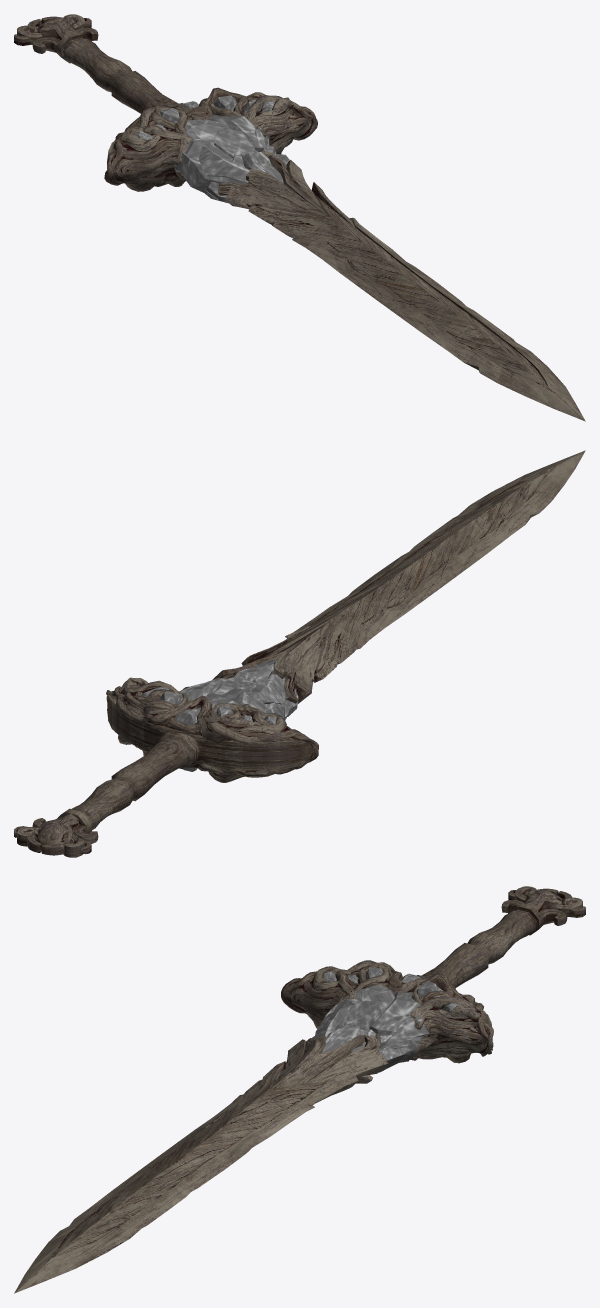
3 renders of one model, top to bottom at view 1: azimuth 30°, elevation 25°; view 2: azimuth 150°, elevation 25°; view 3: azimuth 330°, elevation 25°, orthographic.
Visible parts, largest first — view 1: WP_A_0232, WP_A_0232.001; view 2: WP_A_0232, WP_A_0232.001; view 3: WP_A_0232, WP_A_0232.001.
Part boxes in pixels (left/top/right/bottom): WP_A_0232: left=14, top=14, right=585, bottom=421; WP_A_0232.001: left=134, top=95, right=289, bottom=203; WP_A_0232: left=14, top=450, right=585, bottom=857; WP_A_0232.001: left=141, top=658, right=298, bottom=771; WP_A_0232: left=14, top=886, right=585, bottom=1293; WP_A_0232.001: left=311, top=968, right=462, bottom=1072.
Size of the model in its own units: 33.06 by 10.45 by 147.
Materials: 2 (2 with a texture image).
